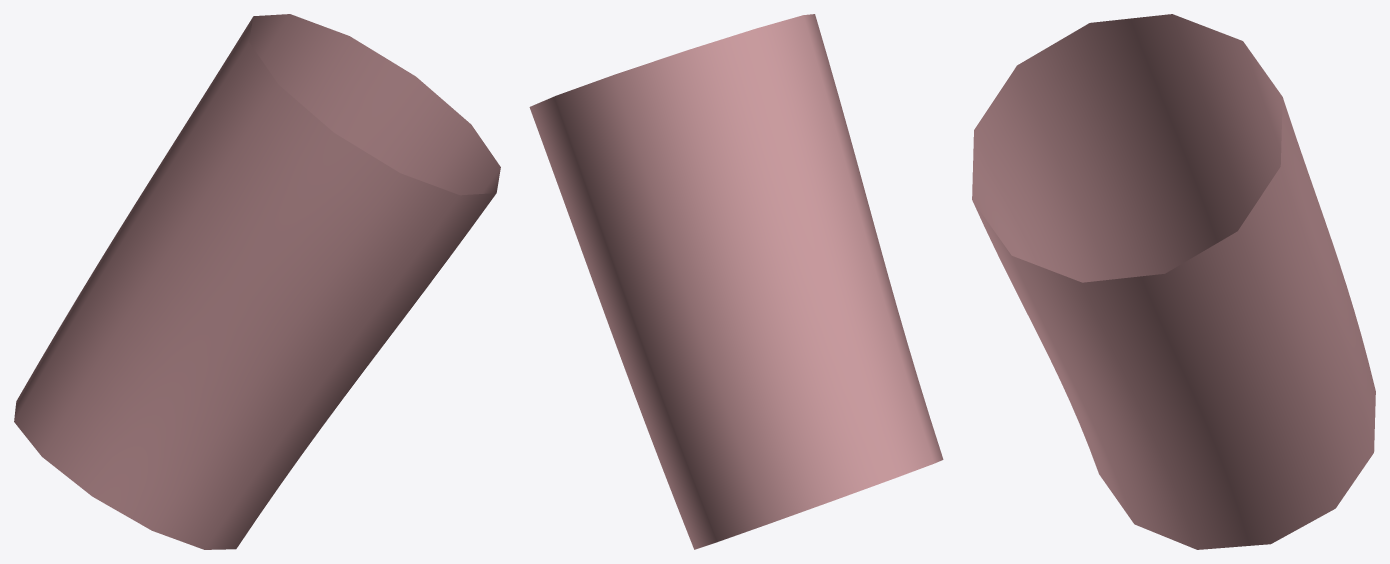
The picture shows the model from 3 angles, left to right: view 1: azimuth 30°, elevation 25°; view 2: azimuth 150°, elevation 25°; view 3: azimuth 270°, elevation 25°; orthographic projection. The views are drawn at different scales.
Parts seen in each view (by area): view 1: ZA_193609cfd1bfefe7; view 2: ZA_193609cfd1bfefe7; view 3: ZA_193609cfd1bfefe7.
Boxes of the visible parts, left/top/right/bottom form: ZA_193609cfd1bfefe7: left=14, top=14, right=500, bottom=549; ZA_193609cfd1bfefe7: left=529, top=14, right=943, bottom=549; ZA_193609cfd1bfefe7: left=972, top=14, right=1375, bottom=549.
Bounding box in the file's own units: 0.0267 × 0.0307 × 0.021.
